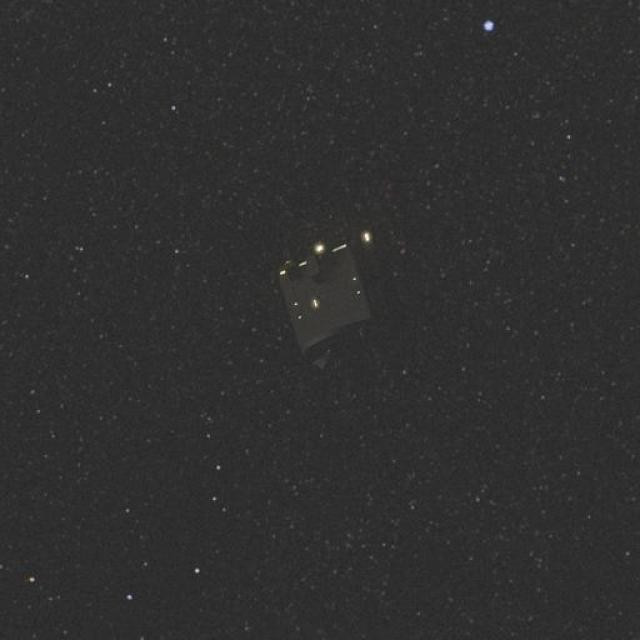proba_3_ocs: (252, 212, 403, 370)
